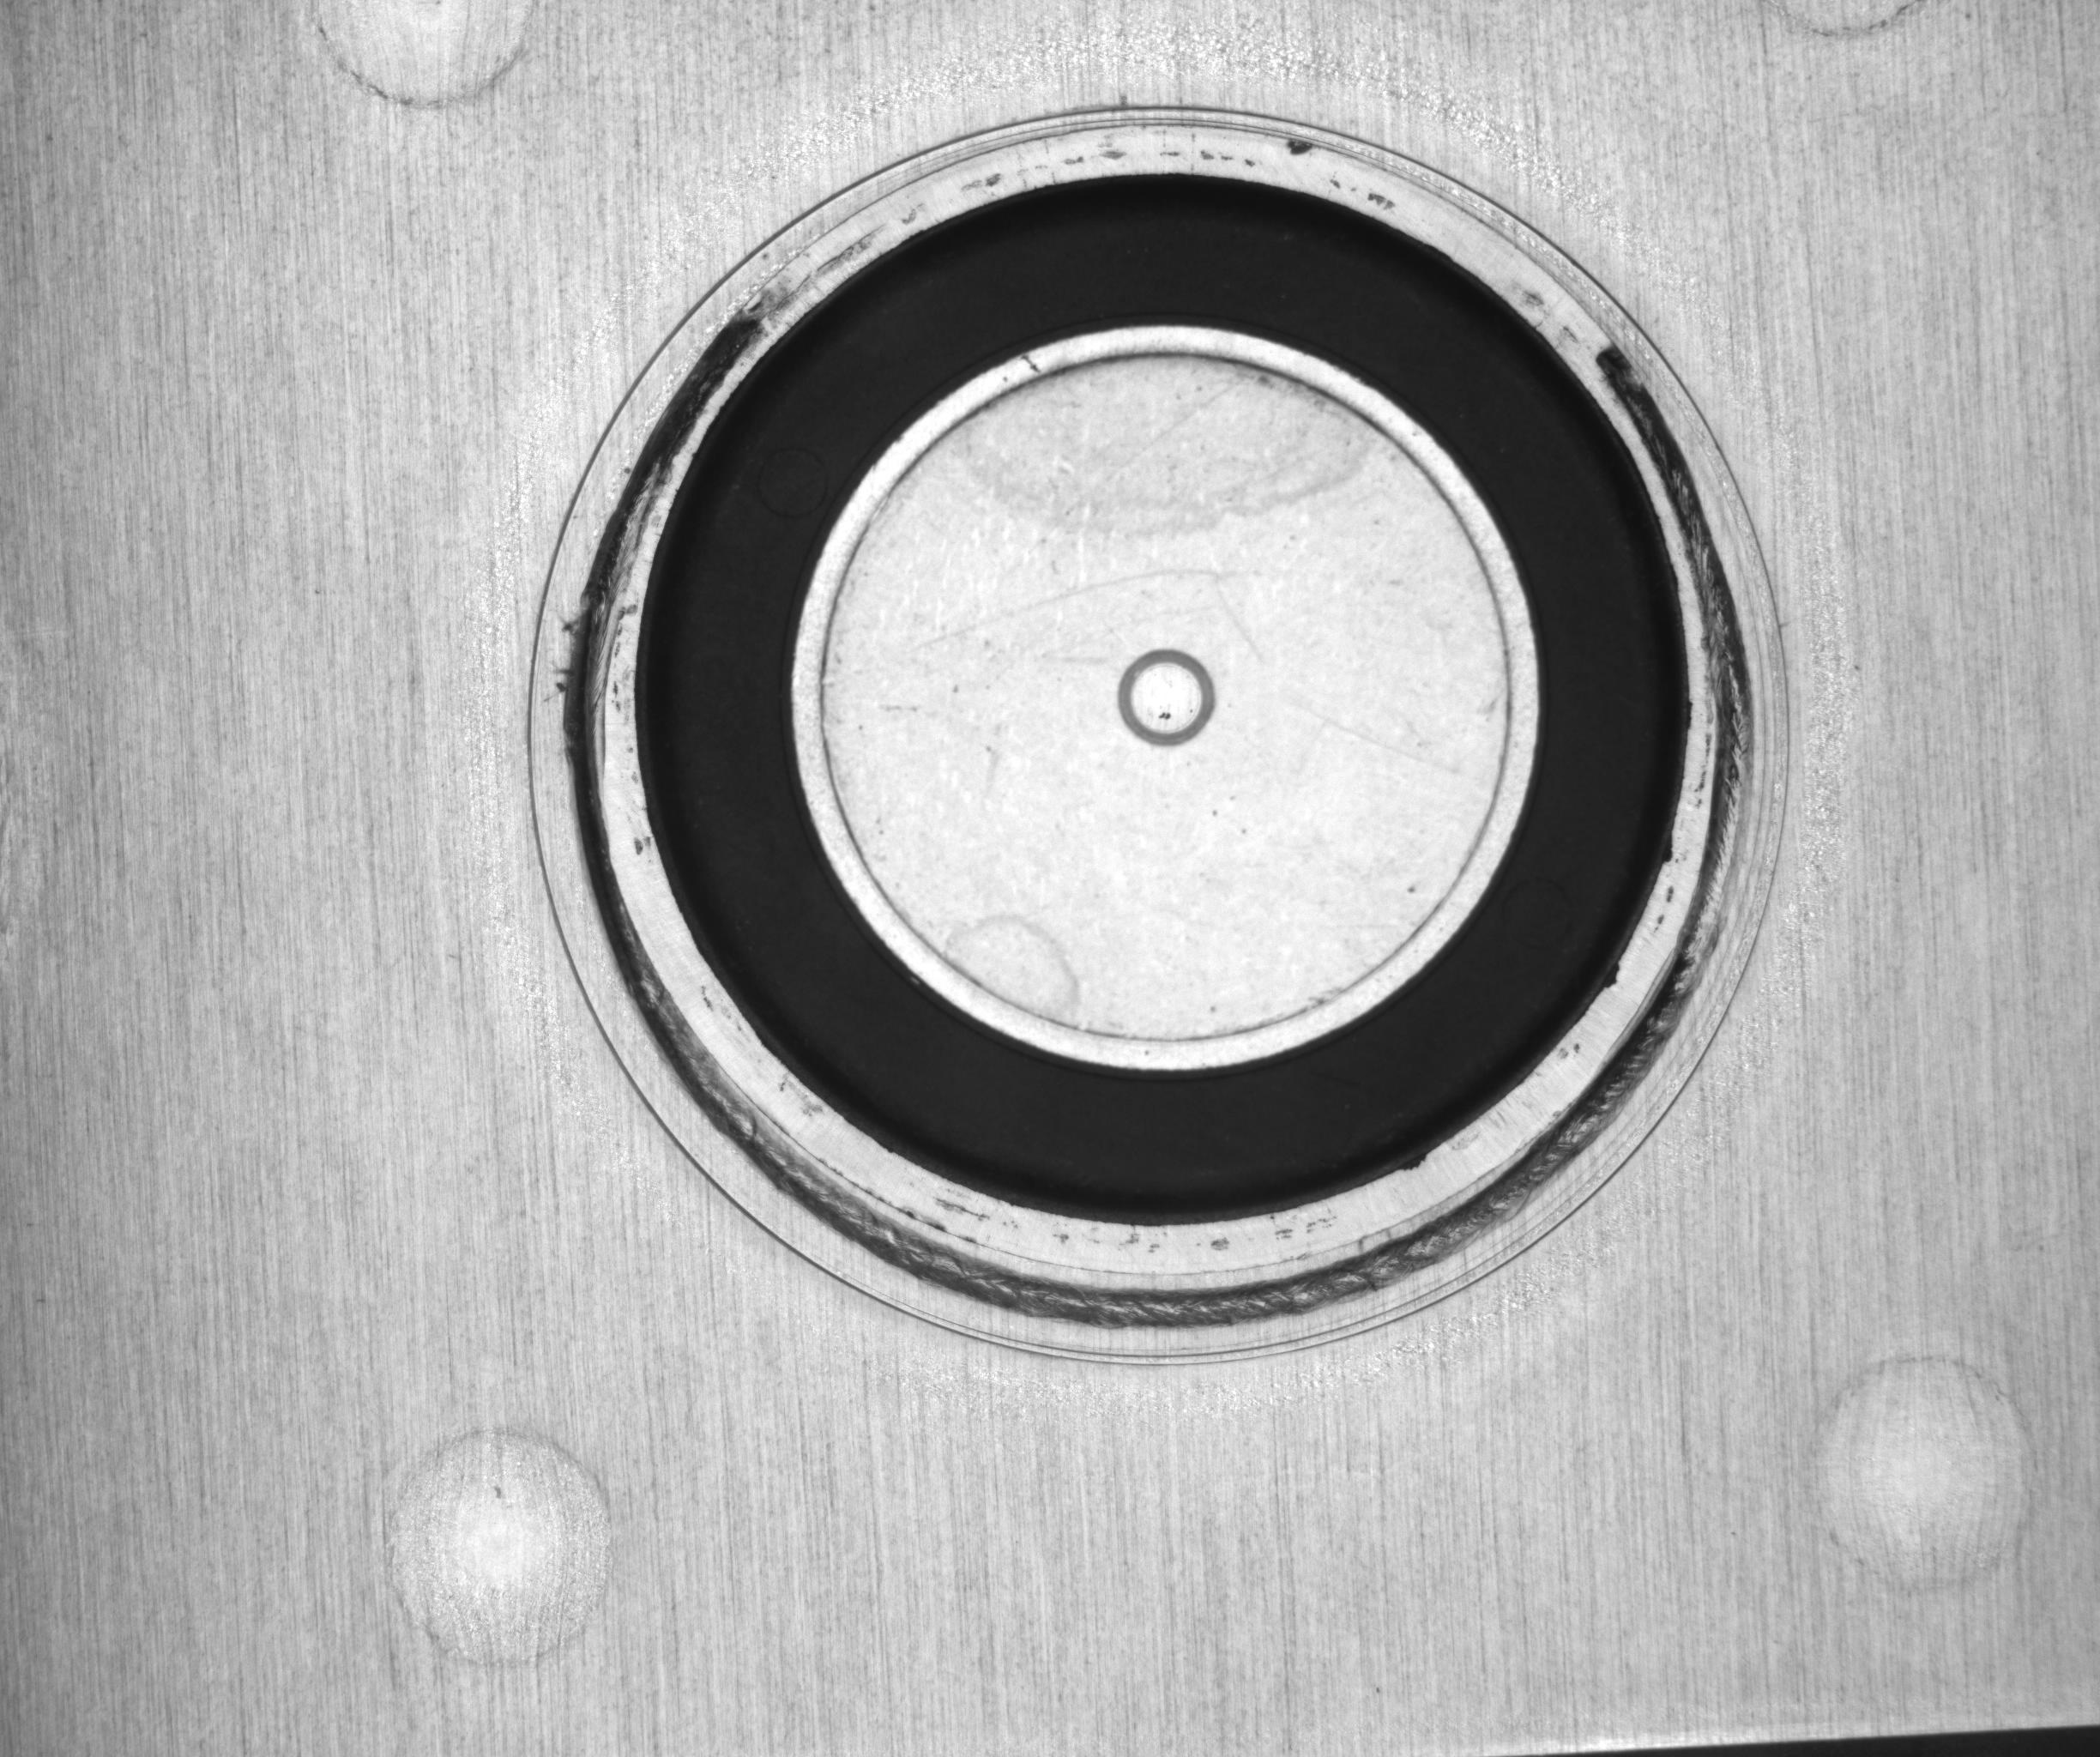shifting: (522, 103, 1790, 1368)
